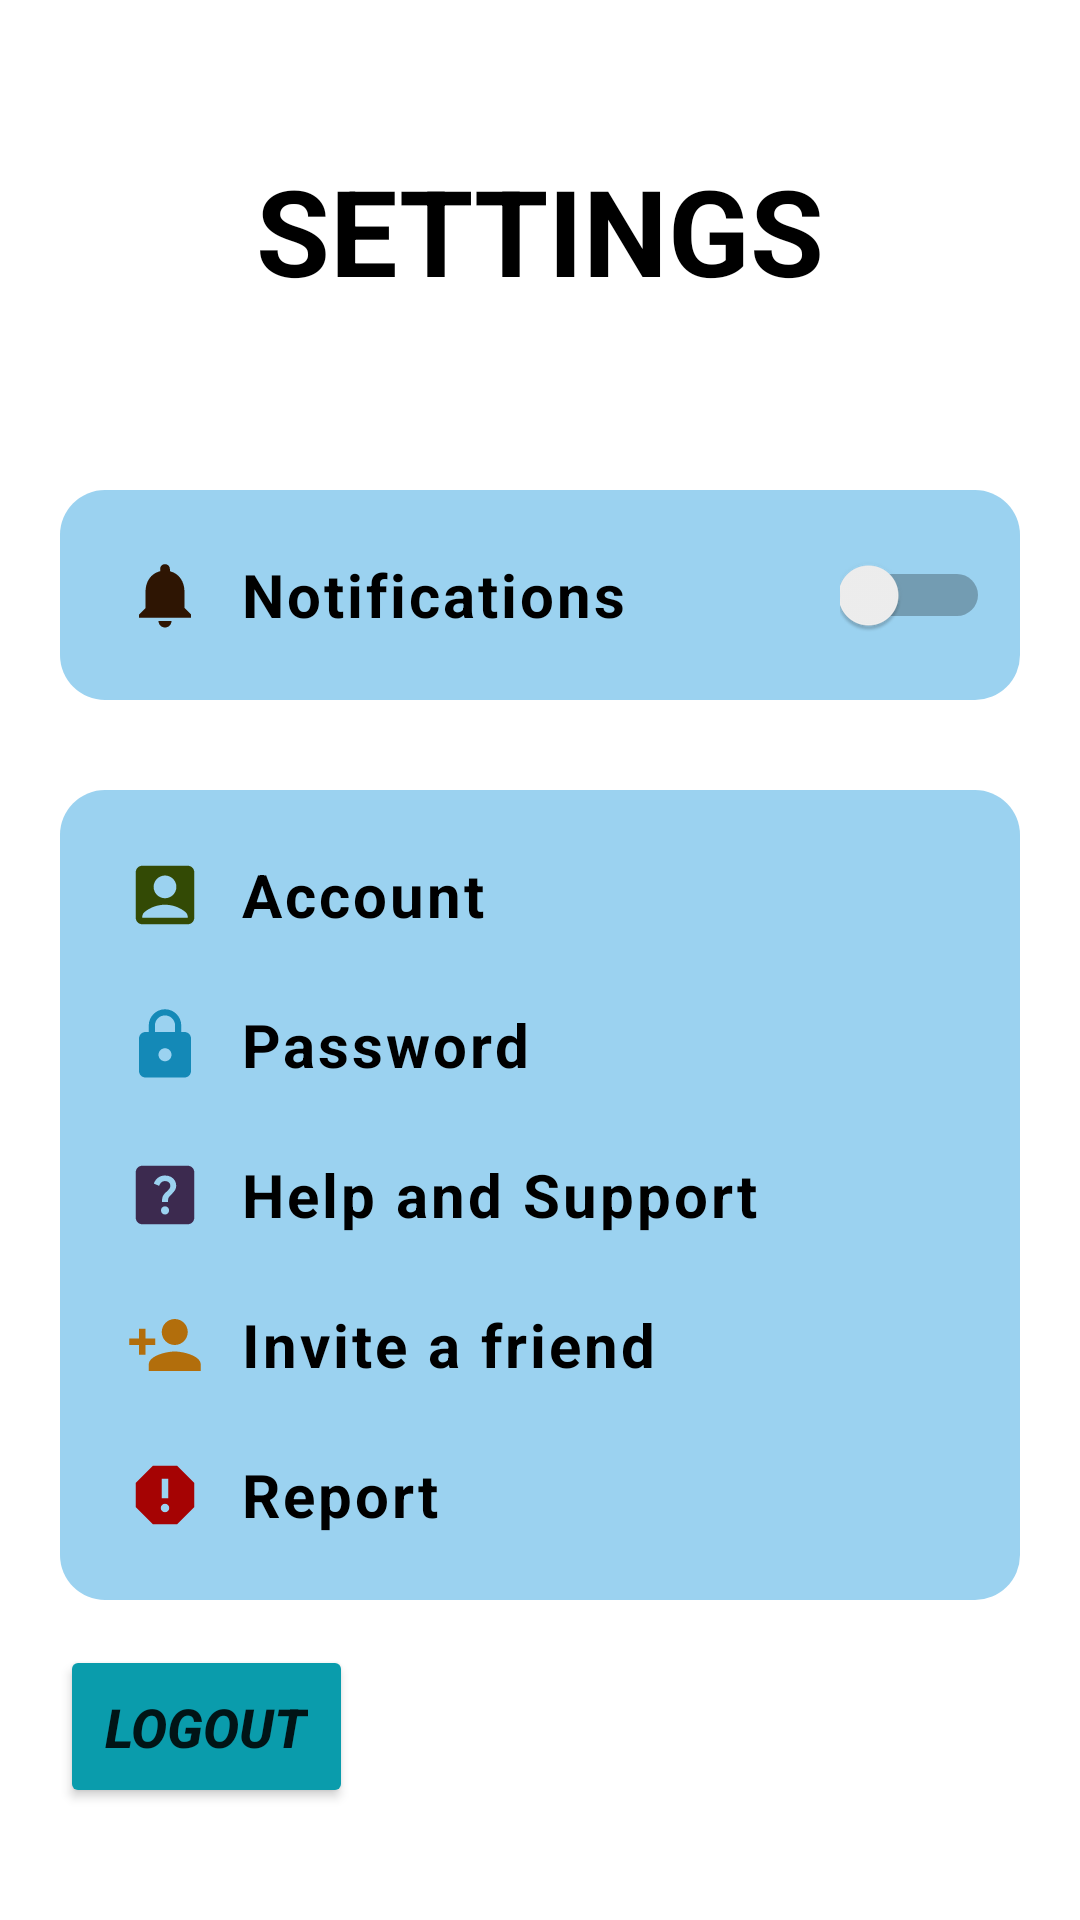

Named icons in this screenshot (1080×1920) and their bounding boxes, Rect(x1, y1, x2, y2):
help center: Rect(135, 1165, 195, 1225)
lock: Rect(139, 1009, 191, 1078)
person add: Rect(129, 1319, 201, 1371)
